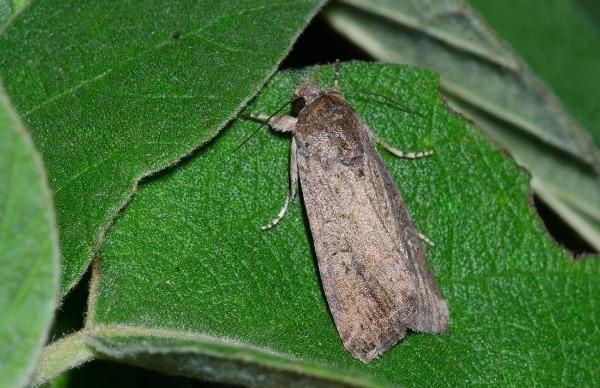army worm adult: (237, 67, 463, 365)
